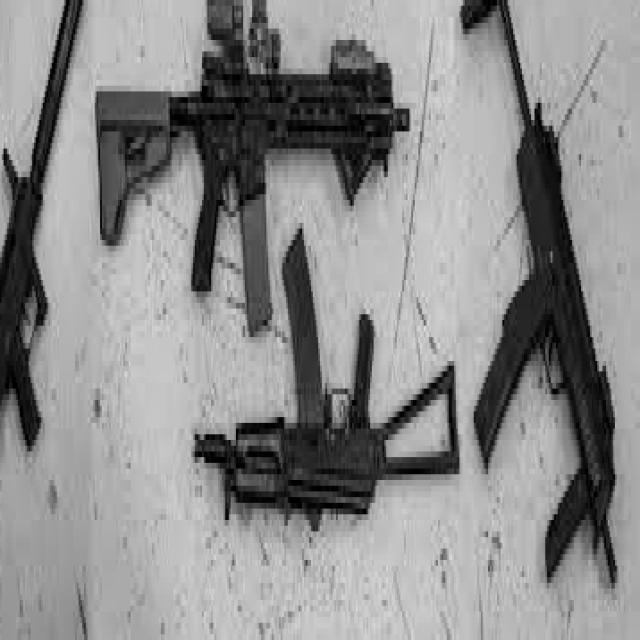gun: (460, 0, 628, 634), (91, 0, 415, 309), (186, 239, 470, 546), (0, 0, 91, 629)
